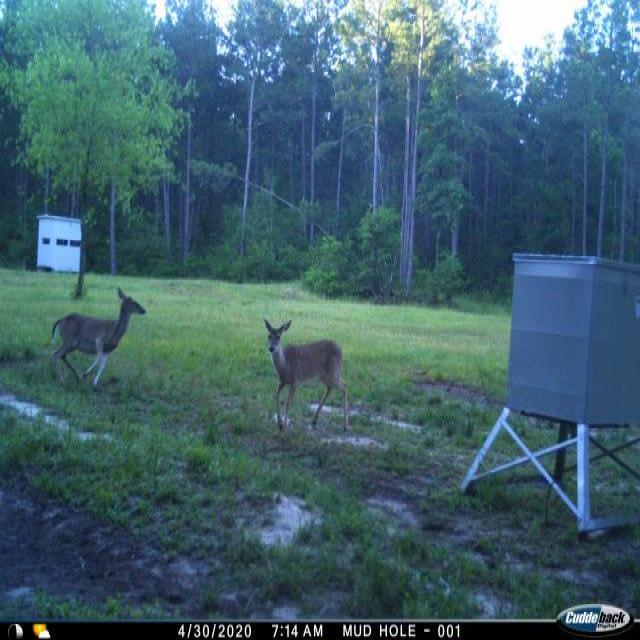deer: (260, 314, 354, 435), (46, 287, 150, 388)
